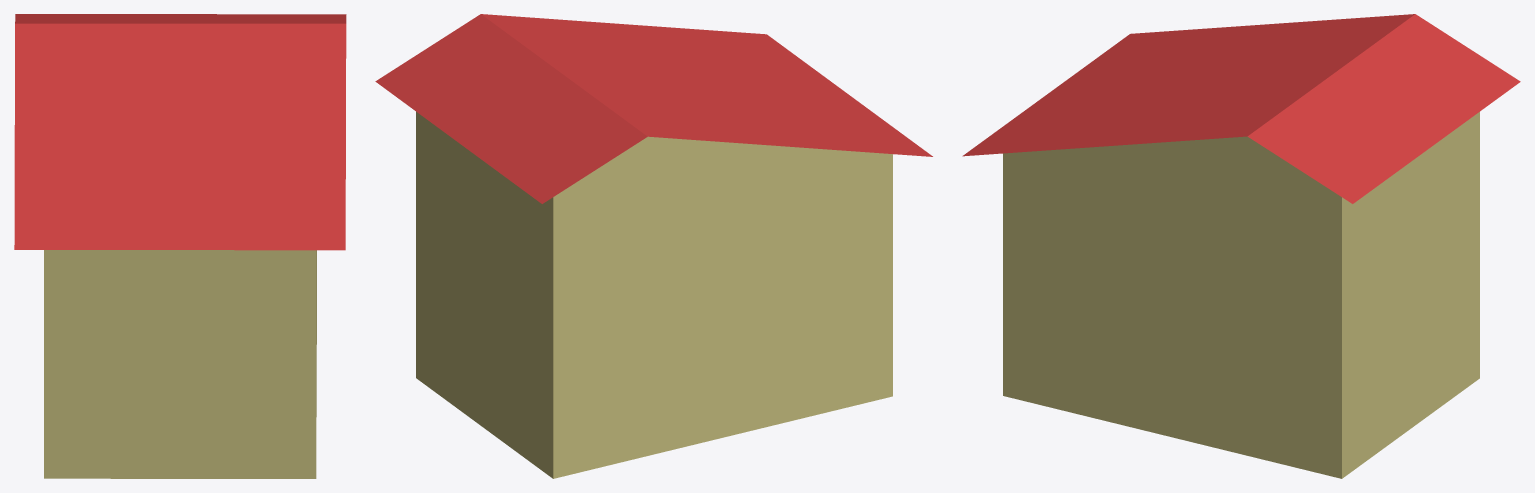
3 views of the same model, side by side, from view 1: azimuth 30°, elevation 25°; view 2: azimuth 150°, elevation 25°; view 3: azimuth 270°, elevation 25° (orthographic).
Bounding box in the file's own units: 12.98 × 14.04 × 9.26.
